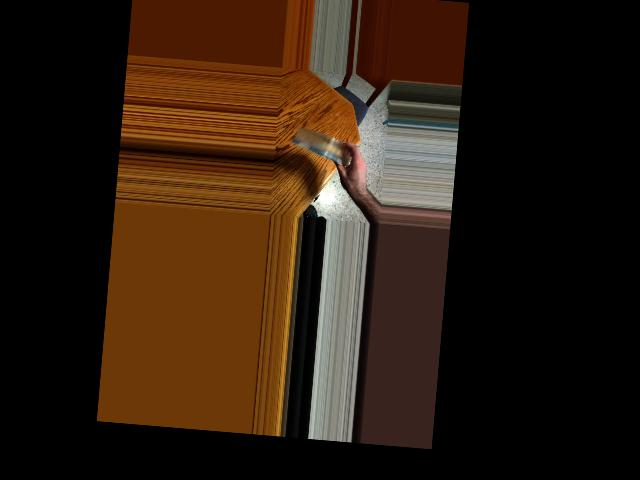cheese: (289, 130, 359, 160)
